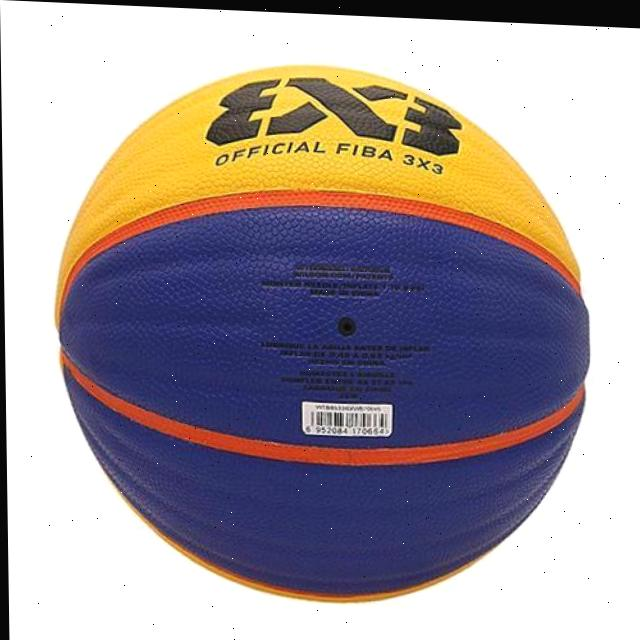Basketball: (52, 54, 593, 614)
